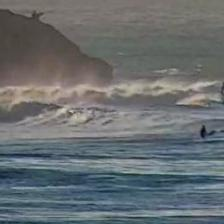surfer: (200, 125, 208, 136), (219, 81, 223, 96)
